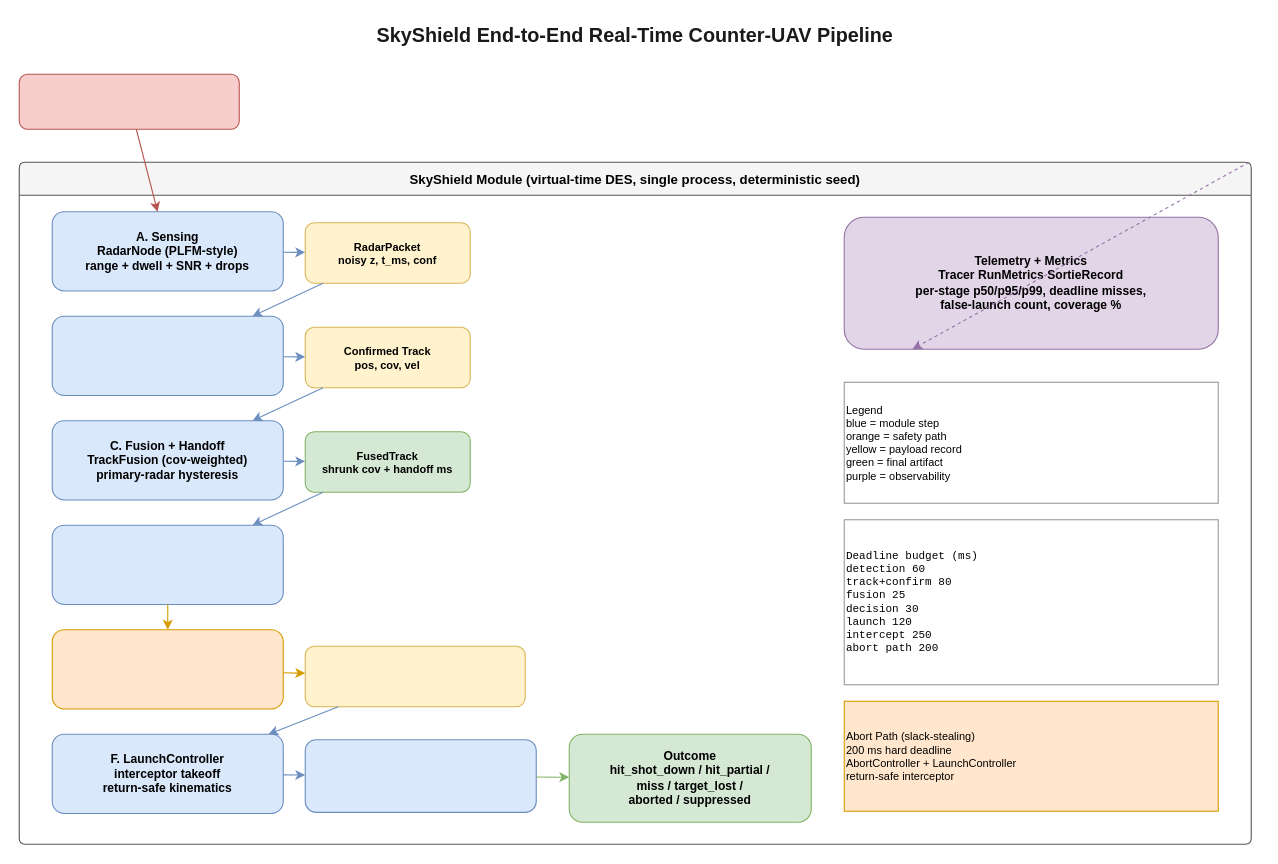
This 1278x864 diagram has some shape labels left out. The centre of each missing label's shape, as x and y in pixels:
"Adversarial UAV Targets (single + swarm)" belongs at (128,101).
"B. Track + Confirm KalmanCV / IMMTracker M-of-N gate" belongs at (167,355).
"D. Decision ThreatScorer + Prioritizer DeadlineScheduler (RM+EDF+slack)" belongs at (167,564).
"E. Runtime Safety Guard authorization + geofence + friendly-clear + class conf" belongs at (167,669).
"G. InterceptorKinematics closing speed, maneuver load, cov trace Ph model" belongs at (420,775).
"LAUNCH / SUPPRESS / ABORT within 200 ms abort deadline" belongs at (414,676).
